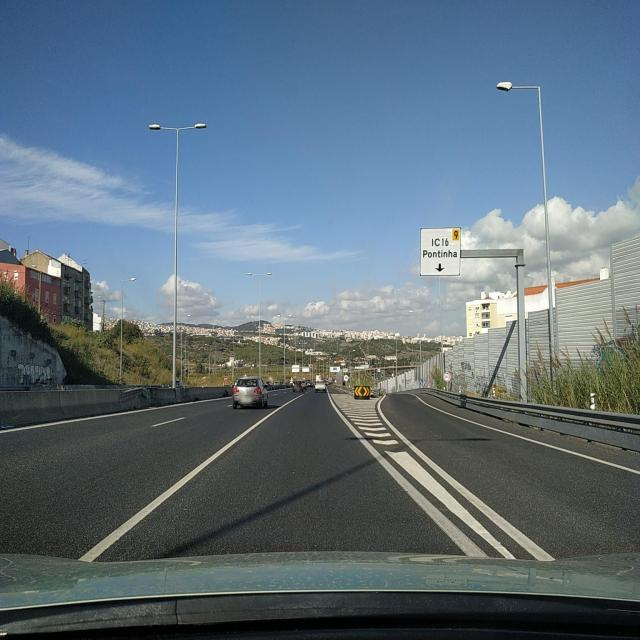car: (232, 376, 269, 409), (315, 378, 328, 393), (263, 378, 275, 392), (293, 380, 303, 395)
